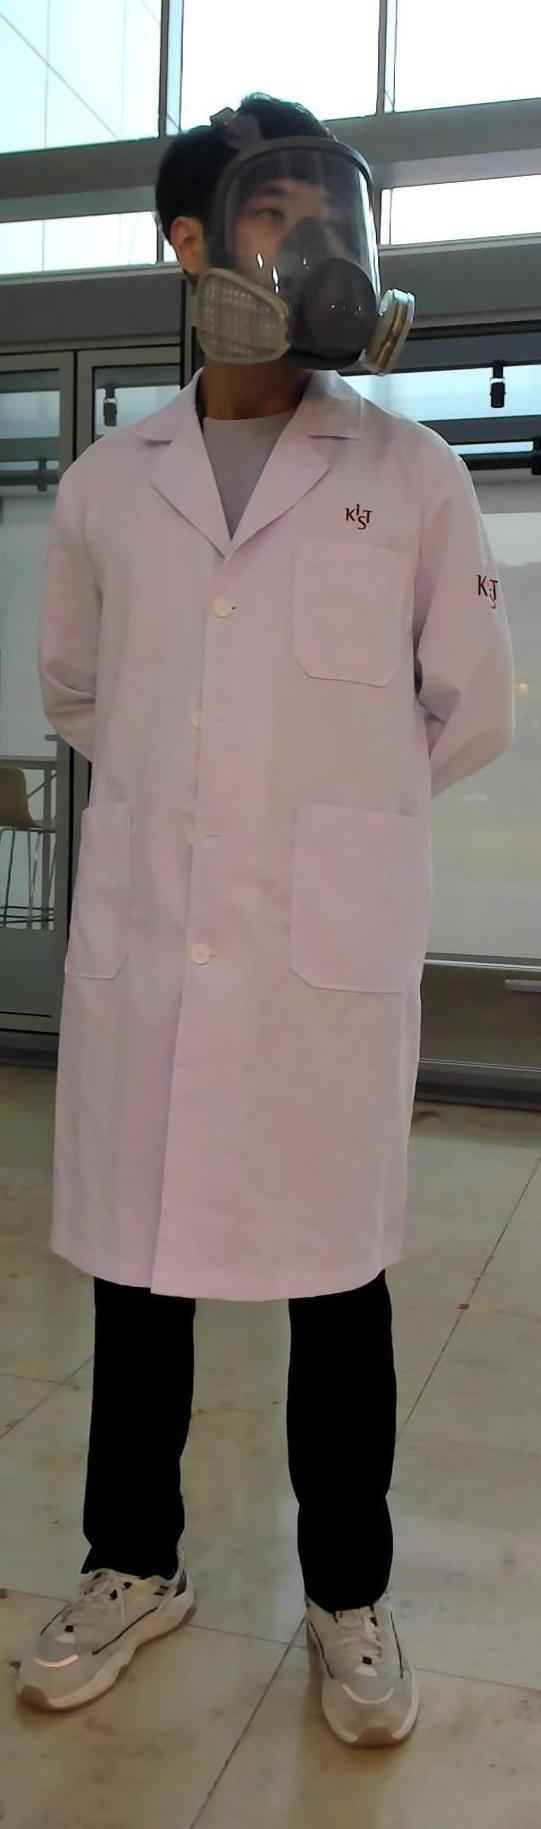lab_coat: (41, 423, 500, 1309)
